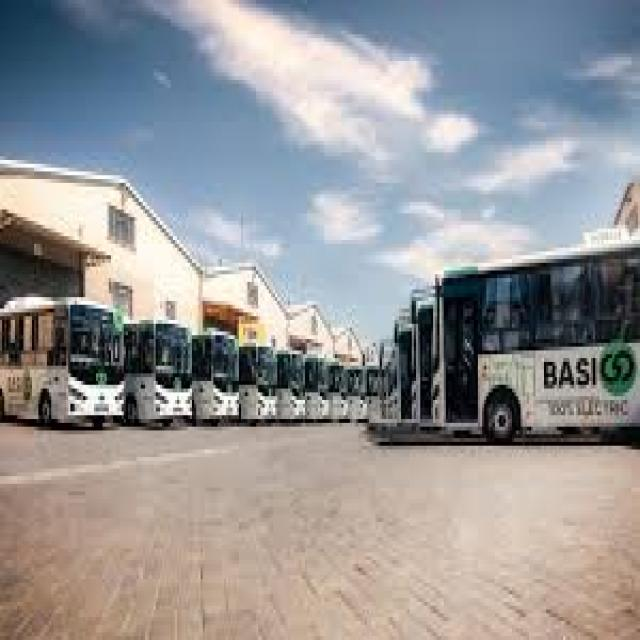bus: (1, 258, 131, 509)
